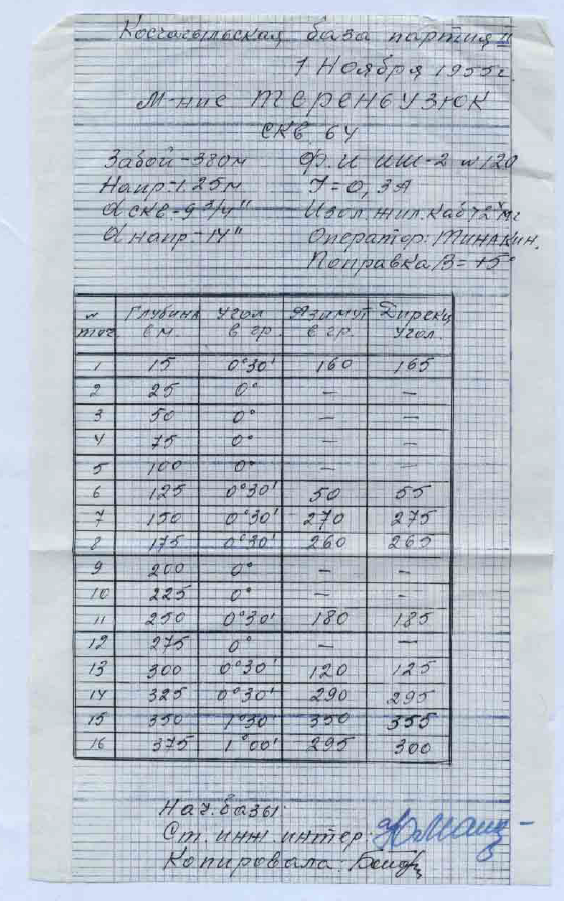Bordered: (69, 293, 455, 763)
